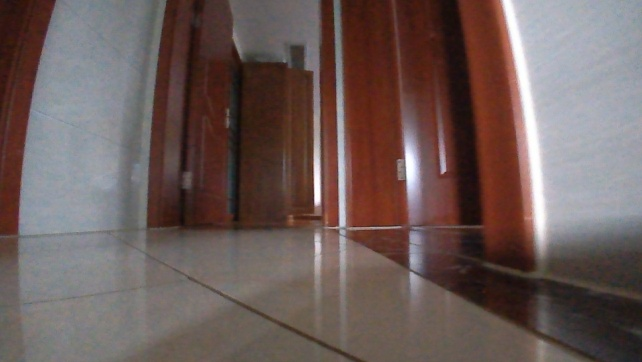door_anno: (144, 0, 234, 230)
